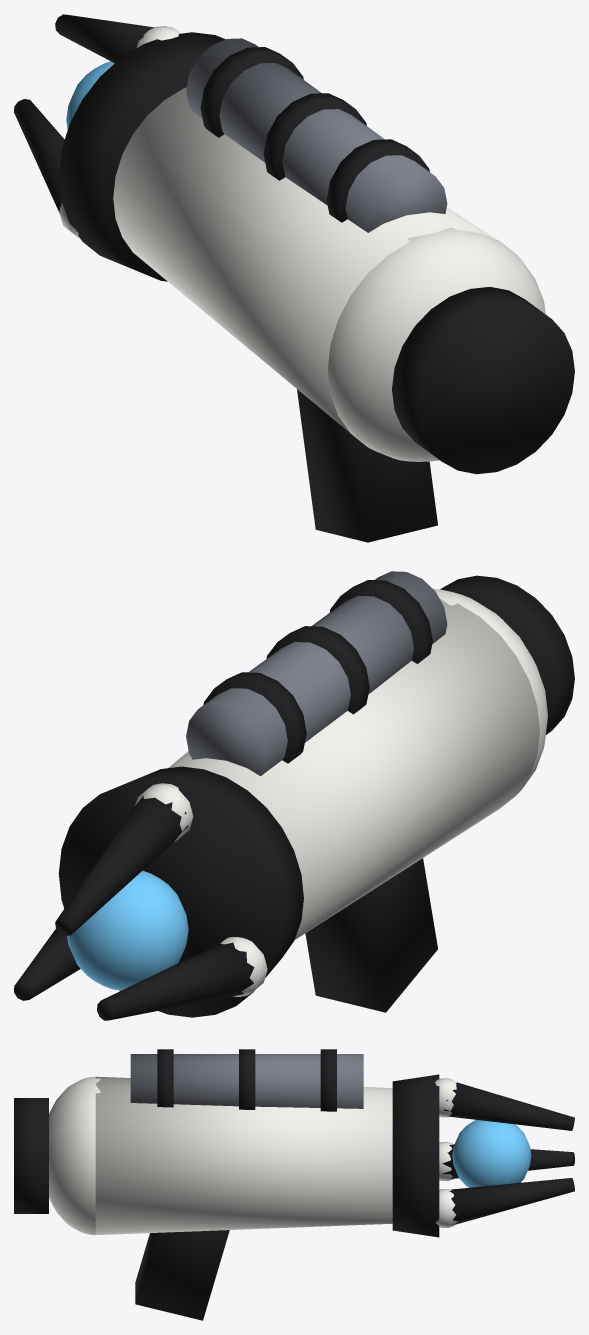
File: portal_gun.obj
3 renders of one model, top to bottom at view 1: azimuth 30°, elevation 25°; view 2: azimuth 150°, elevation 25°; view 3: azimuth 270°, elevation 25°, orthographic. The views are drawn at different scales.
Bounding box in the file's own units: 0.14 × 0.2435 × 0.4813.
